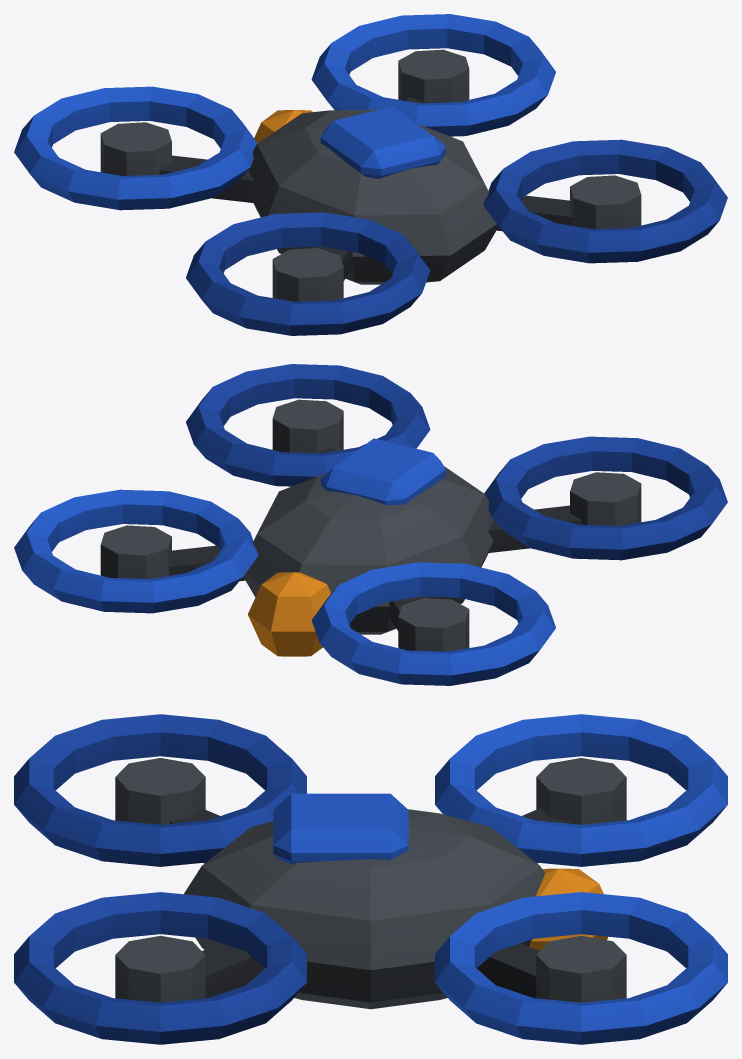
The model's file is scout.glb.
3 views of the same model, one above another, from view 1: azimuth 30°, elevation 25°; view 2: azimuth 150°, elevation 25°; view 3: azimuth 270°, elevation 25° (orthographic). The views are drawn at different scales.
Visible parts, largest first — view 1: hull; view 2: hull; view 3: hull.
Part boxes in pixels (box(x1,y1,x2,y2)): hull: box(14, 14, 727, 335); hull: box(14, 364, 727, 685); hull: box(14, 714, 727, 1044).
Bounding box in the file's own units: 0.48 × 0.13 × 0.475.
